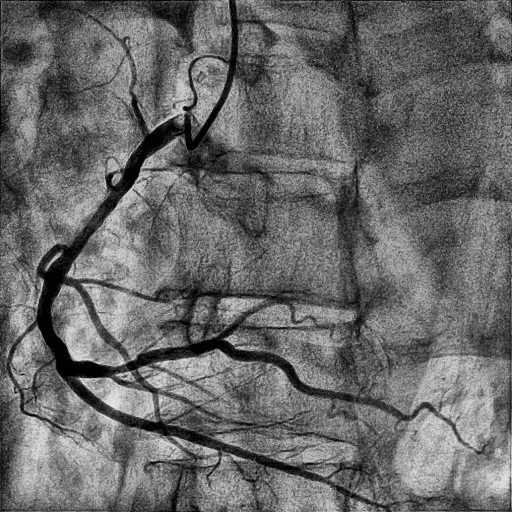pborca: (56, 340, 468, 448)
pda: (56, 366, 390, 510)
rca: (37, 112, 190, 365)
